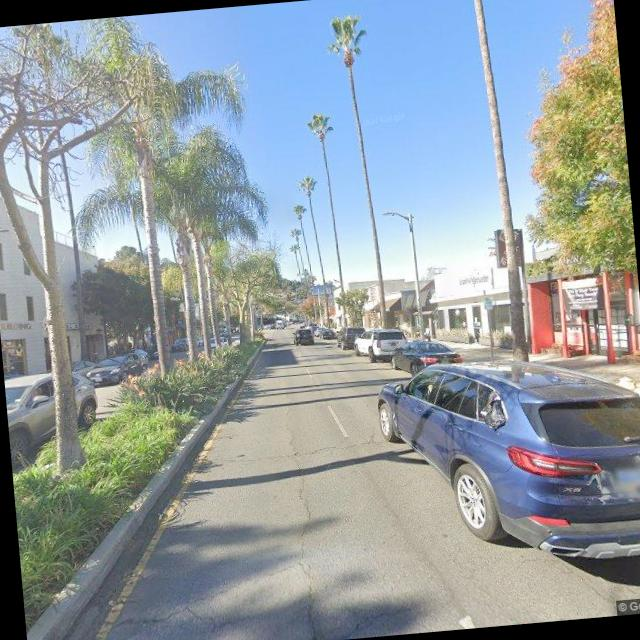crack: (120, 553, 302, 627), (280, 409, 333, 640), (187, 425, 386, 477)
